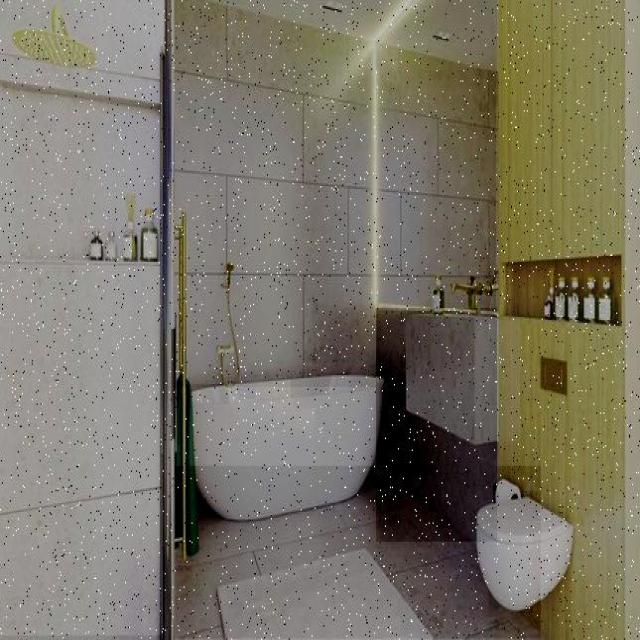Wall: (175, 0, 496, 387), (0, 0, 164, 636), (175, 466, 541, 639), (377, 309, 497, 542), (220, 0, 497, 70)
